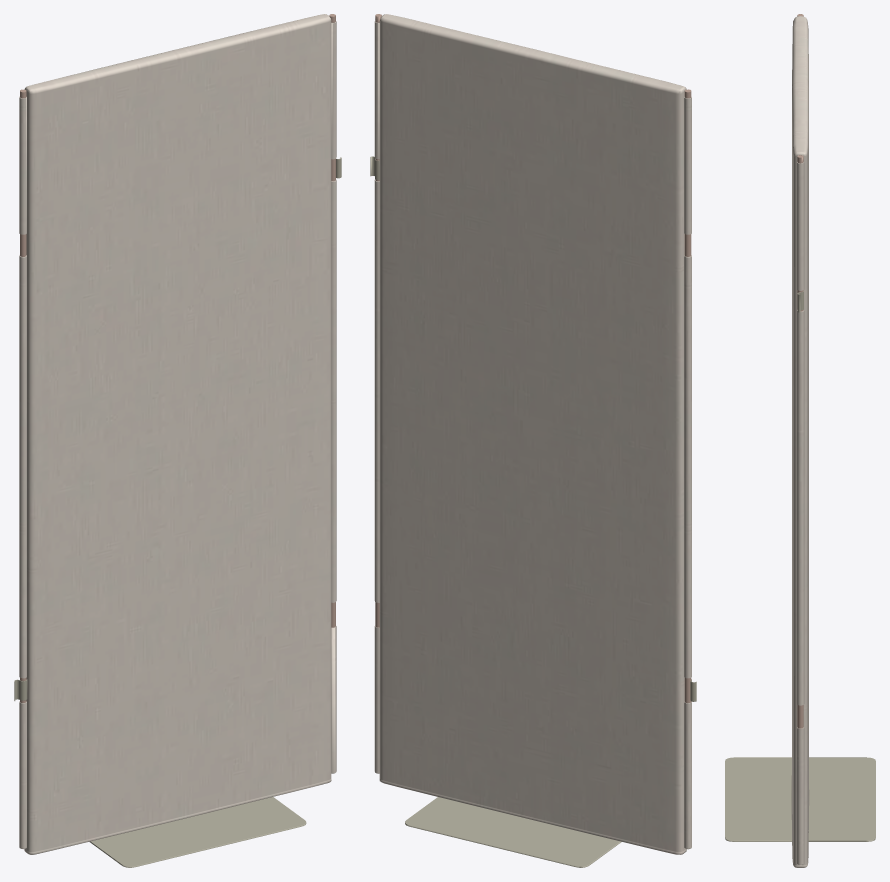
Rendered from 21 - MITTZON - 落地式隔音屏, Gunnared 米色, 70x157 公分 IKEA 線上購物.glb.
3 renders of one model, left to right at view 1: azimuth 30°, elevation 25°; view 2: azimuth 150°, elevation 25°; view 3: azimuth 270°, elevation 25°, orthographic. The views are drawn at different scales.
Visible parts, largest first — view 1: Mesh_0; view 2: Mesh_0; view 3: Mesh_0.
Boxes of the visible parts, bbox=[...] form: Mesh_0: bbox=[14, 14, 341, 867]; Mesh_0: bbox=[370, 14, 696, 867]; Mesh_0: bbox=[725, 14, 875, 867].
Size of the model in its own units: 0.6998 by 1.57 by 0.2999.
3 materials, 1 textured.
